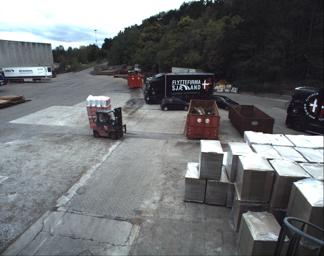rockwool_batts: (85, 93, 112, 126)
